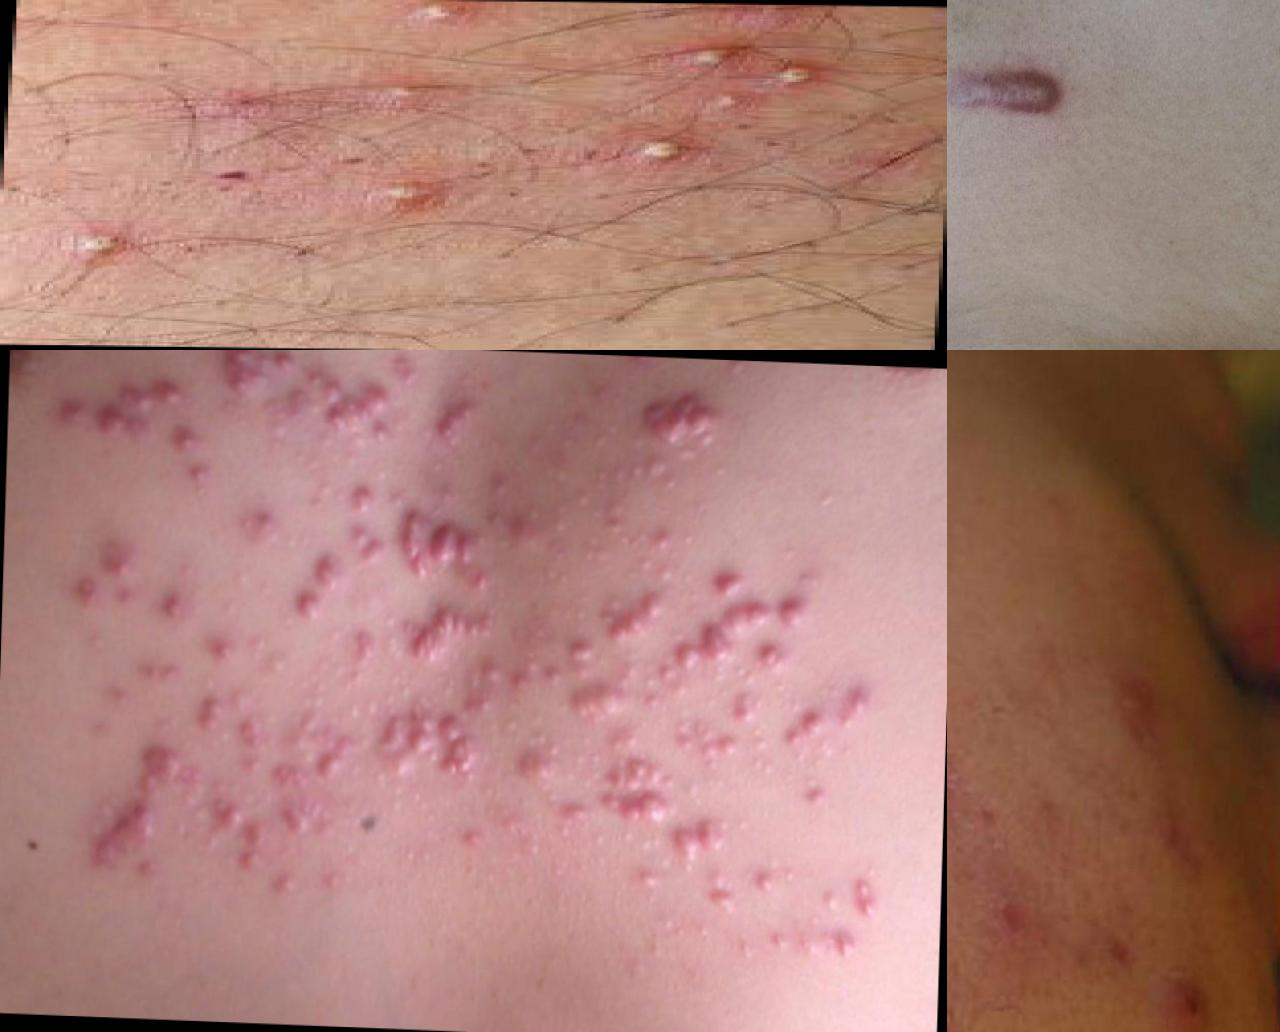acne_scars: (1104, 648, 1215, 888)
folliculitis: (348, 163, 458, 221), (605, 123, 720, 170), (42, 220, 152, 267), (367, 65, 461, 110), (384, 1, 507, 28), (766, 60, 832, 91), (683, 45, 748, 73)
keloid: (948, 38, 1105, 150), (669, 592, 775, 682), (402, 606, 503, 671), (598, 757, 683, 828), (652, 388, 727, 454), (89, 800, 157, 874), (605, 586, 678, 651), (564, 679, 635, 737), (418, 521, 491, 576), (438, 716, 483, 785), (138, 743, 193, 793)
papular: (728, 6, 846, 38), (776, 708, 829, 761), (65, 575, 117, 624), (848, 870, 886, 925), (842, 684, 878, 732), (825, 929, 865, 970), (309, 553, 343, 596), (291, 592, 328, 629)
sebo-crystan-conglo: (211, 796, 320, 904), (102, 370, 187, 443), (316, 381, 408, 443), (274, 730, 359, 797), (1156, 964, 1239, 1032), (375, 706, 441, 783), (198, 690, 272, 752), (669, 714, 744, 767), (672, 817, 737, 876), (220, 351, 297, 400), (461, 658, 515, 726), (397, 500, 435, 587), (423, 398, 483, 450), (509, 737, 562, 793), (347, 525, 389, 571), (349, 475, 383, 521), (763, 640, 789, 681)
whitehead: (611, 819, 669, 864), (574, 532, 626, 579), (338, 681, 374, 731)
